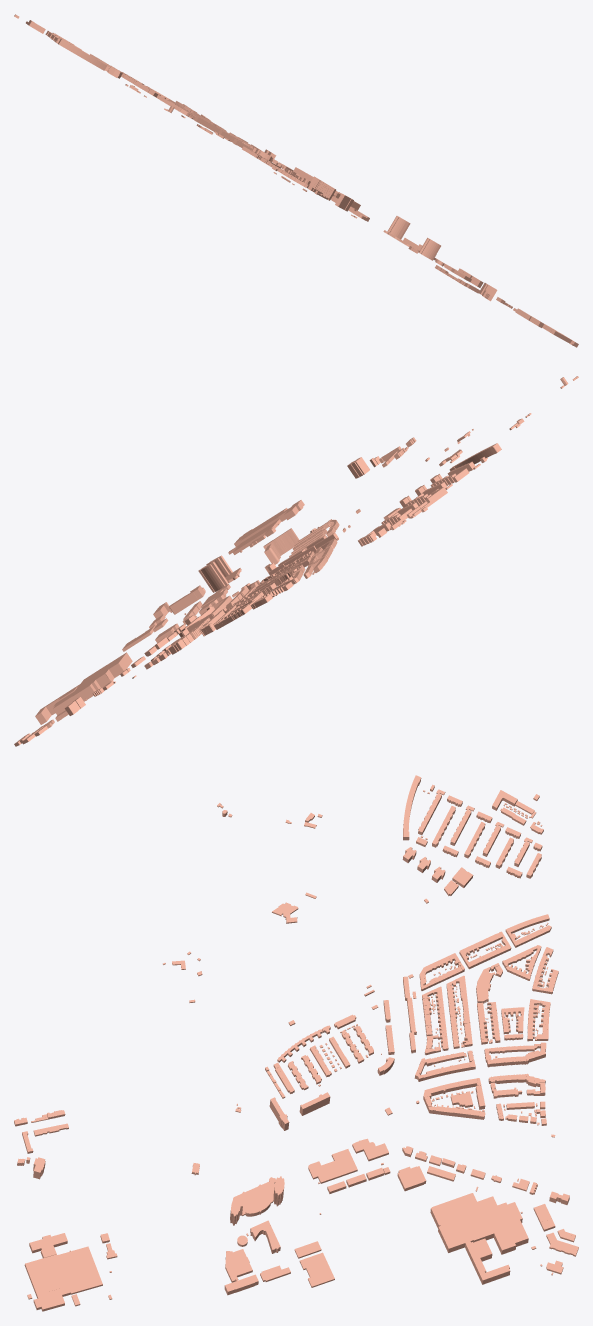
3 views of the same model, one above another, from view 1: azimuth 30°, elevation 25°; view 2: azimuth 150°, elevation 25°; view 3: azimuth 270°, elevation 25° (orthographic). The views are drawn at different scales.
Bounding box in the file's own units: 1070 × 790 × 1223.
